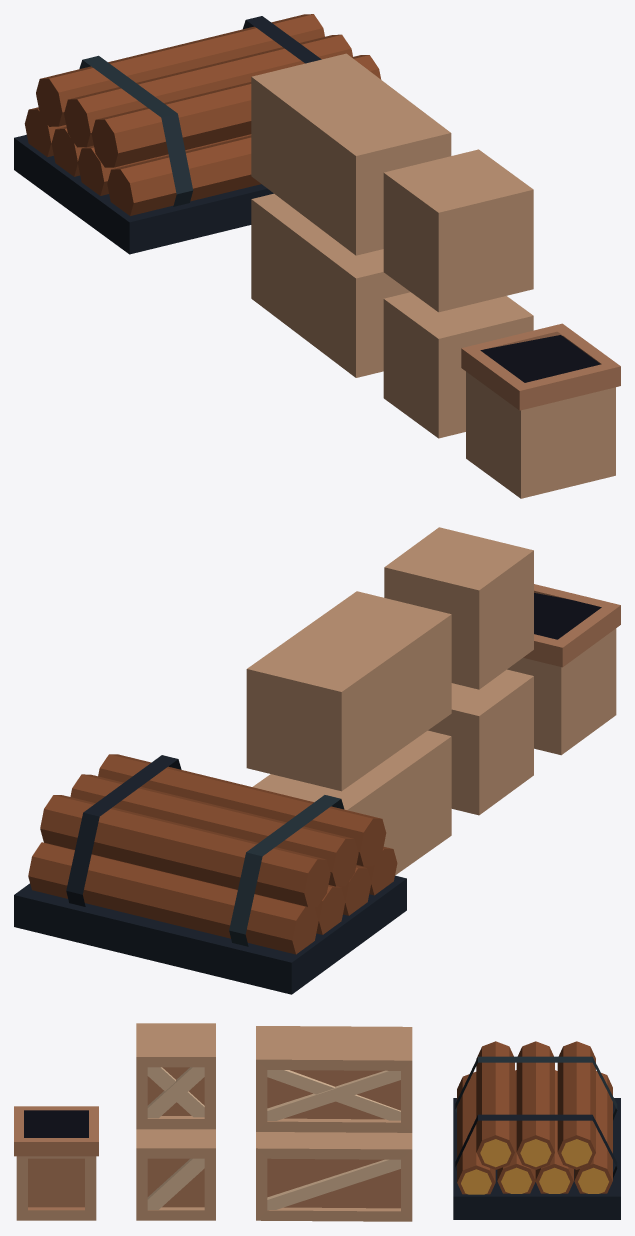
The model's file is Assets.fbx.
3 renders of one model, top to bottom at view 1: azimuth 30°, elevation 25°; view 2: azimuth 150°, elevation 25°; view 3: azimuth 270°, elevation 25°, orthographic. The views are drawn at different scales.
Parts seen in each view (by area): view 1: Caja.004, Caja.003, Caja.002, Caja, Caja.001, LogBase, Log.002, Log.007, Log.006, Log, Tapa, Negro (+5 smaller); view 2: Caja.004, LogBase, Caja.003, Log.007, Log.005, Caja.002, Caja.001, Caja, Log.006, Log.002, Tapa, LogBand (+5 smaller); view 3: Caja.004, Caja.002, Caja.003, Caja.001, LogBase, Caja, Log.002, Log.006, Log.007, Tapa, Log, Tablon.001 (+18 smaller).
Part boxes in pixels (x1,y1,x2,y2): Caja.004: (251,53,451,255); Caja.003: (383,149,533,312); Caja.002: (251,193,410,377); Caja: (466,371,615,498); Caja.001: (383,292,533,438); LogBase: (14,134,273,254); Log.002: (91,55,381,167); Log.007: (36,14,324,126); Log.006: (64,34,352,147); Log: (107,135,260,215); Tapa: (461,323,620,410); Negro: (480,335,600,382); Caja.004: (246,591,451,791); LogBase: (14,875,406,994); Caja.003: (384,527,533,689); Log.007: (40,795,330,907); Log.005: (28,842,318,954); Caja.002: (252,730,451,875); Caja.001: (428,669,533,815); Caja: (507,628,616,755); Log.006: (70,774,358,886); Log.002: (98,754,386,866); Tapa: (523,584,620,667); LogBand: (66,755,181,906); Caja.004: (256,1026,412,1132); Caja.002: (256,1132,412,1221); Caja.003: (136,1023,215,1129); Caja.001: (136,1129,215,1220); LogBase: (453,1098,620,1219); Caja: (16,1156,96,1220); Log.002: (476,1041,514,1169); Log.006: (516,1041,554,1169); Log.007: (557,1041,595,1169); Tapa: (14,1106,98,1156); Log: (457,1072,495,1194); Tablon.001: (267,1159,400,1209).
Size of the model in its own units: 586 by 1521 by 453.
Materials: 2 (2 with a texture image).
